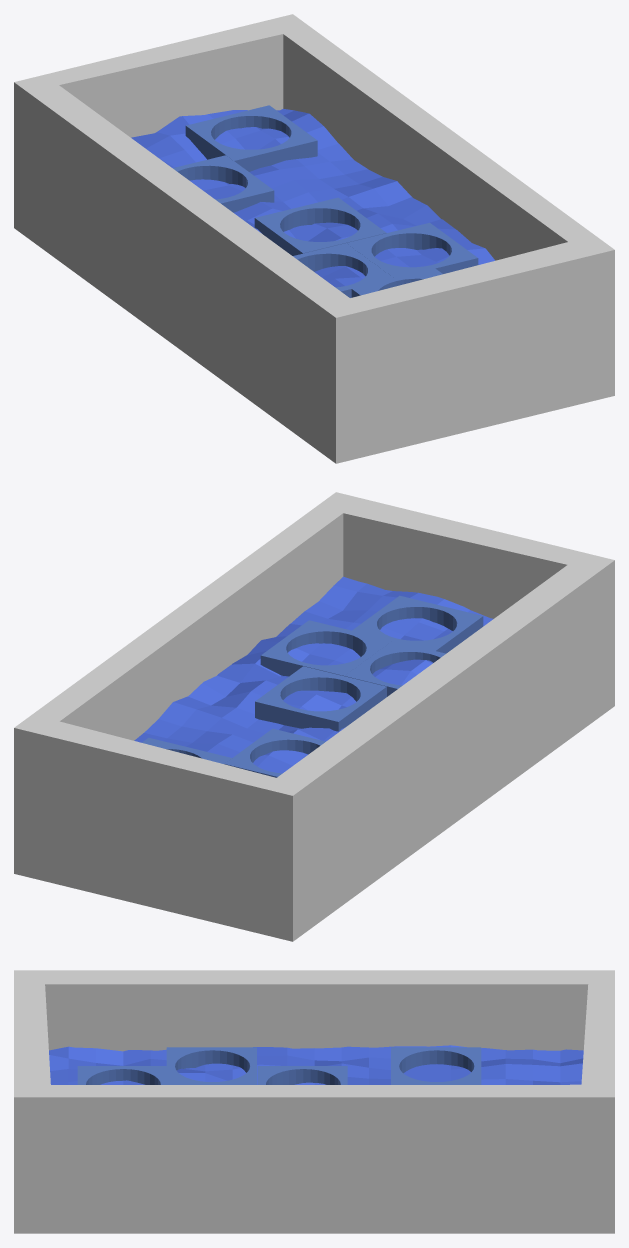
The model's file is bathtub.fbx.
The picture shows the model from 3 angles, top to bottom: view 1: azimuth 30°, elevation 25°; view 2: azimuth 150°, elevation 25°; view 3: azimuth 270°, elevation 25°; orthographic projection. The views are drawn at different scales.
Parts seen in each view (by area): view 1: Tub, Water, Cube.005, Cube.003, Cube.001, Cube.004, Cube, Cube.002; view 2: Tub, Water, Cube.003, Cube.001, Cube.002, Cube.004, Cube, Cube.005; view 3: Tub, Water, Cube.004, Cube, Cube.003, Cube.002.
Boxes of the visible parts, x1=… form: Tub: x1=14, y1=14, x2=614, y2=463; Water: x1=131, y1=108, x2=494, y2=287; Cube.005: x1=185, y1=105, x2=317, y2=171; Cube.003: x1=254, y1=197, x2=386, y2=255; Cube.001: x1=346, y1=222, x2=478, y2=278; Cube.004: x1=173, y1=155, x2=274, y2=212; Cube: x1=293, y1=243, x2=393, y2=297; Cube.002: x1=351, y1=268, x2=442, y2=297; Tub: x1=14, y1=492, x2=614, y2=941; Water: x1=134, y1=576, x2=493, y2=773; Cube.003: x1=255, y1=666, x2=386, y2=731; Cube.001: x1=260, y1=620, x2=392, y2=676; Cube.002: x1=352, y1=595, x2=483, y2=653; Cube.004: x1=224, y1=728, x2=325, y2=777; Cube: x1=345, y1=640, x2=445, y2=696; Cube.005: x1=142, y1=737, x2=231, y2=763; Tub: x1=14, y1=970, x2=614, y2=1233; Water: x1=49, y1=1045, x2=583, y2=1084; Cube.004: x1=391, y1=1047, x2=481, y2=1084; Cube: x1=166, y1=1047, x2=256, y2=1084; Cube.003: x1=257, y1=1066, x2=347, y2=1084; Cube.002: x1=77, y1=1066, x2=166, y2=1084.
Size of the model in its own units: 400 by 200 by 800.
